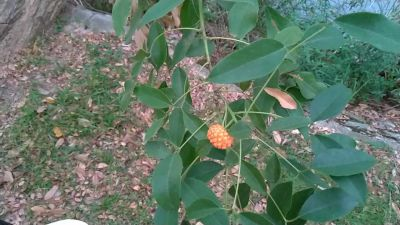eggs: (208, 117, 234, 152)
